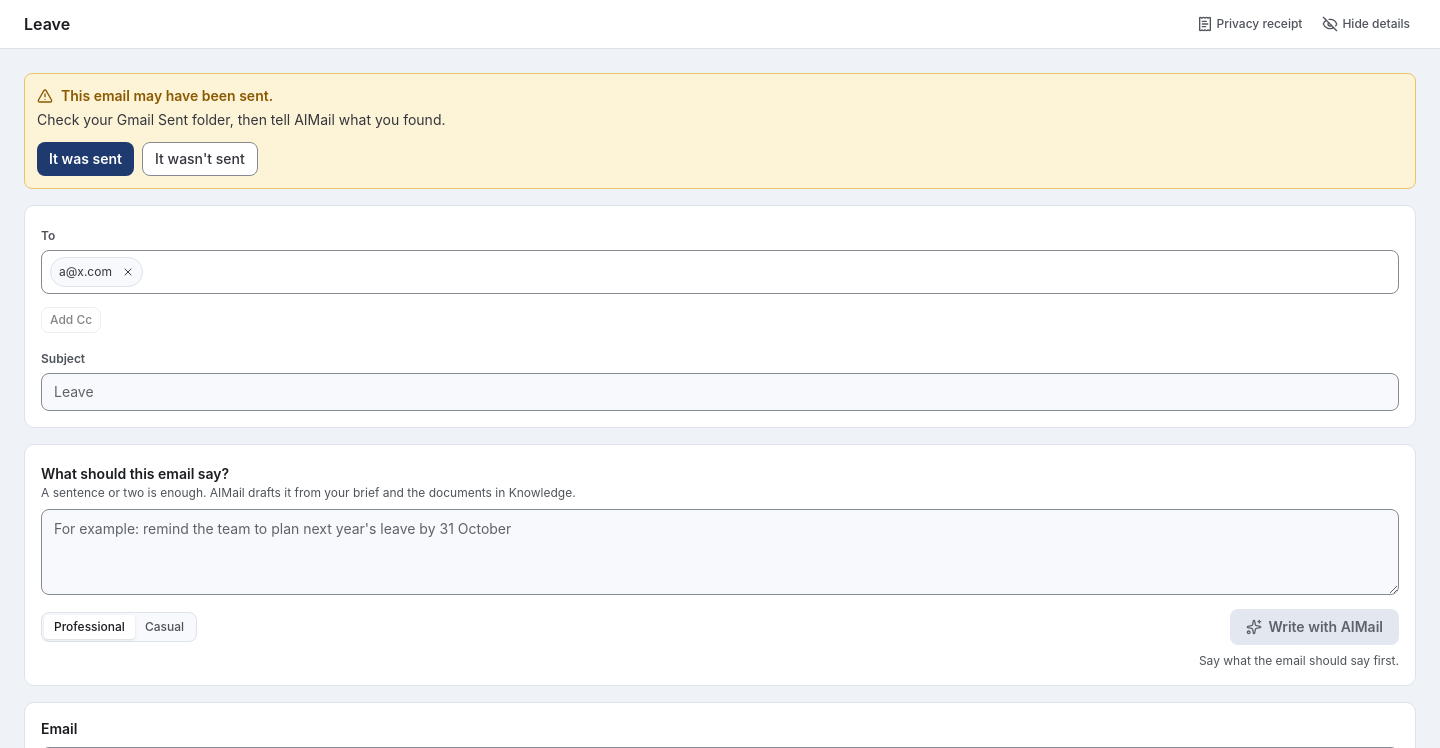
Test: an email that may have been sent › is locked, and the user's answer settles it
This screenshot has width=1440, height=748.
Expected: the text box labelled "What should this email say?" is shown, [41,509,1399,595]
Expected: the text "This email may have been sent." is shown, [37,87,273,104]
Click the button "It was sent".
click(86, 159)  # box [37,142,134,176]
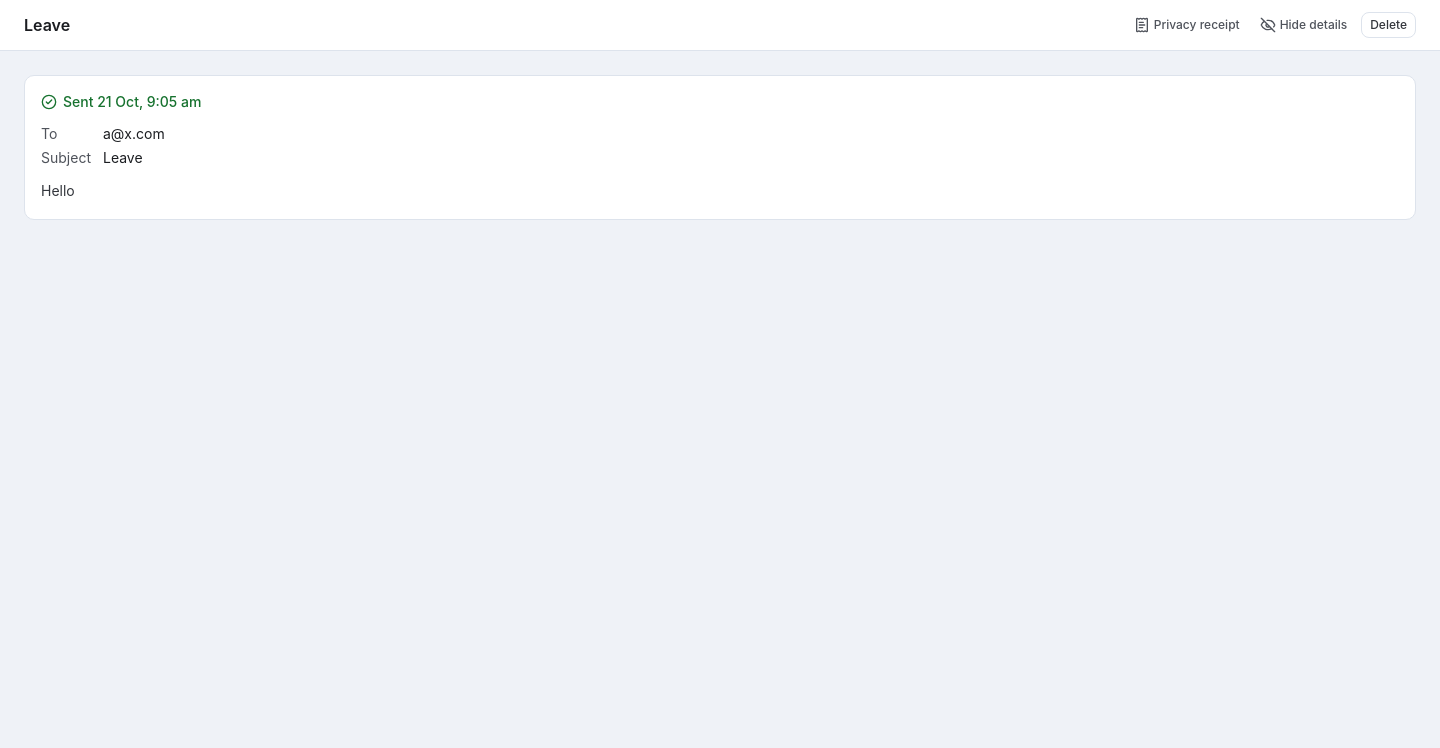
Now the text "Sent 21 Oct, 9:05 am" is shown, box [41,93,201,110]
